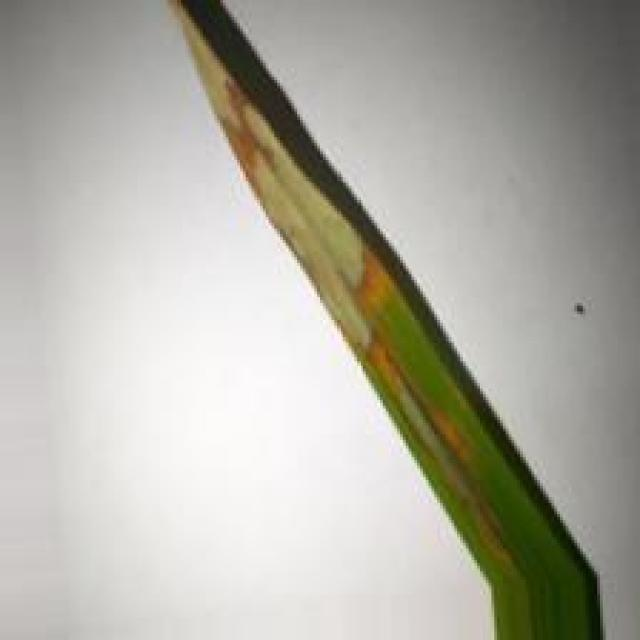Leaf_Scald: (171, 0, 523, 580)
